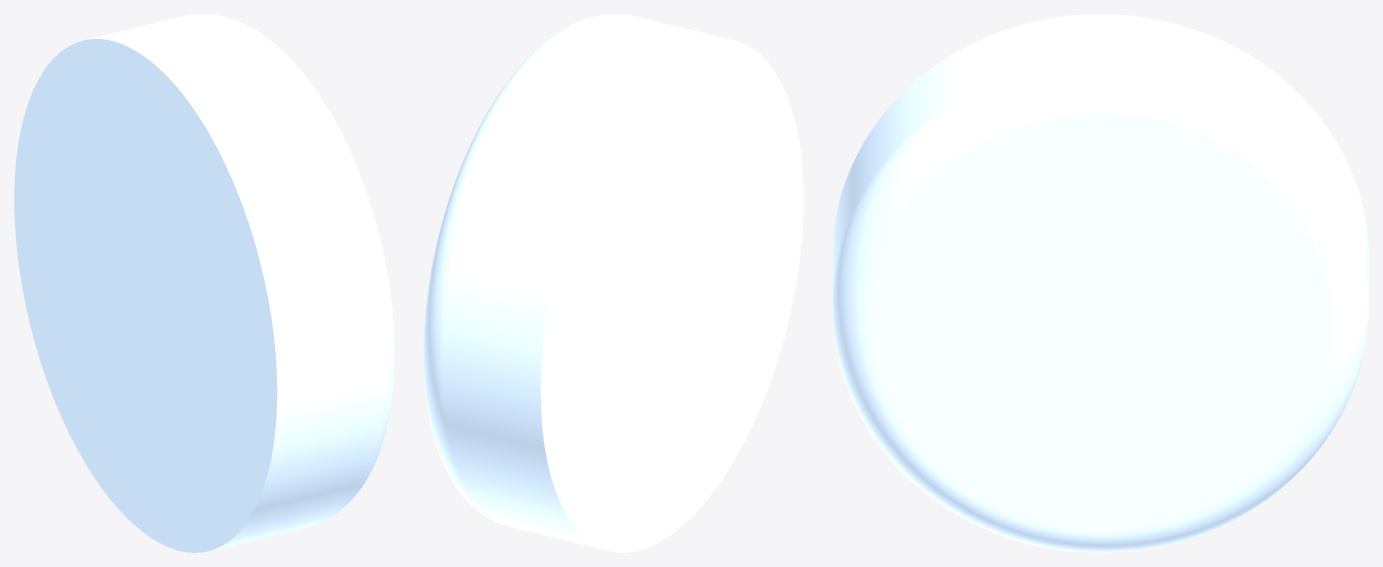
Rendered from Cell01__Stations__H4_Quarantine__Controls__DoorButton__Plunger.glb.
3 views of the same model, side by side, from view 1: azimuth 30°, elevation 25°; view 2: azimuth 150°, elevation 25°; view 3: azimuth 270°, elevation 25° (orthographic). The views are drawn at different scales.
Visible parts, largest first — view 1: /World/Cell01/Stations/H4_Quarantine/Controls/DoorButton/Plu; view 2: /World/Cell01/Stations/H4_Quarantine/Controls/DoorButton/Plu; view 3: /World/Cell01/Stations/H4_Quarantine/Controls/DoorButton/Plu.
Boxes of the visible parts, left/top/right/bottom form: /World/Cell01/Stations/H4_Quarantine/Controls/DoorButton/Plu: left=14, top=14, right=394, bottom=552; /World/Cell01/Stations/H4_Quarantine/Controls/DoorButton/Plu: left=423, top=14, right=803, bottom=552; /World/Cell01/Stations/H4_Quarantine/Controls/DoorButton/Plu: left=832, top=14, right=1368, bottom=552.
Bounding box in the file's own units: 0.006 × 0.0208 × 0.0208.
